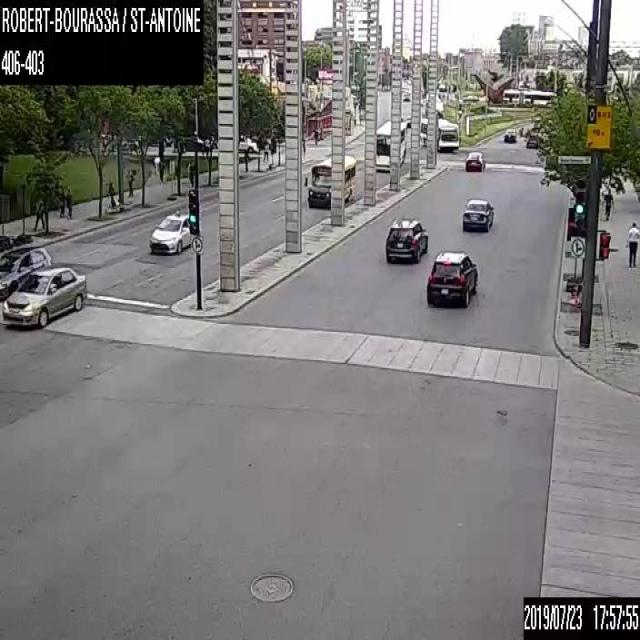bus: (305, 154, 355, 207), (374, 119, 406, 169), (420, 116, 458, 149), (502, 88, 557, 108)
pedestrian: (625, 221, 639, 268), (32, 198, 44, 230), (602, 188, 613, 221), (126, 168, 136, 196), (107, 181, 117, 207), (65, 188, 73, 219), (58, 187, 65, 216), (187, 158, 194, 186), (158, 160, 164, 181), (262, 140, 268, 161), (312, 126, 318, 146)
vehicle: (2, 264, 86, 327), (426, 248, 478, 308), (0, 246, 50, 299), (149, 211, 203, 253), (385, 215, 428, 262), (462, 197, 493, 229), (464, 149, 484, 172), (178, 136, 208, 151), (238, 133, 258, 152), (504, 128, 516, 142), (526, 136, 539, 148), (402, 92, 410, 100)
